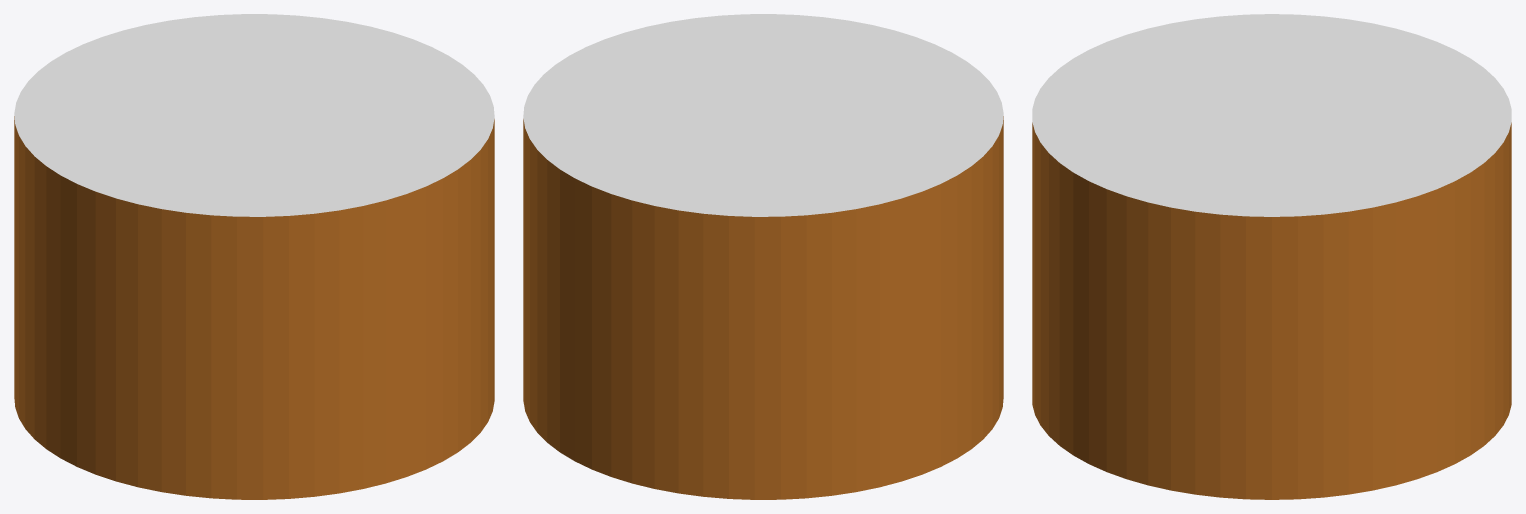
The model's file is senap.dae.
3 renders of one model, left to right at view 1: azimuth 30°, elevation 25°; view 2: azimuth 150°, elevation 25°; view 3: azimuth 270°, elevation 25°, orthographic.
Visible parts, largest first — view 1: senap; view 2: senap; view 3: senap.
Boxes of the visible parts, <box> form: senap: <box>14,14,494,499</box>; senap: <box>523,14,1003,499</box>; senap: <box>1032,14,1511,499</box>.
Bounding box in the file's own units: 200 × 200 × 130.
